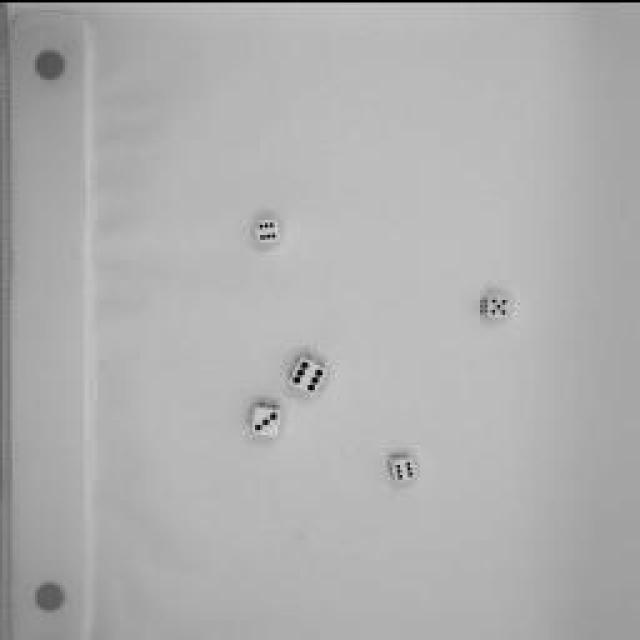dice_3: (245, 395, 290, 440)
dice_5: (476, 292, 512, 322)
dice_6: (285, 349, 330, 396), (382, 445, 420, 485), (250, 213, 282, 245)
